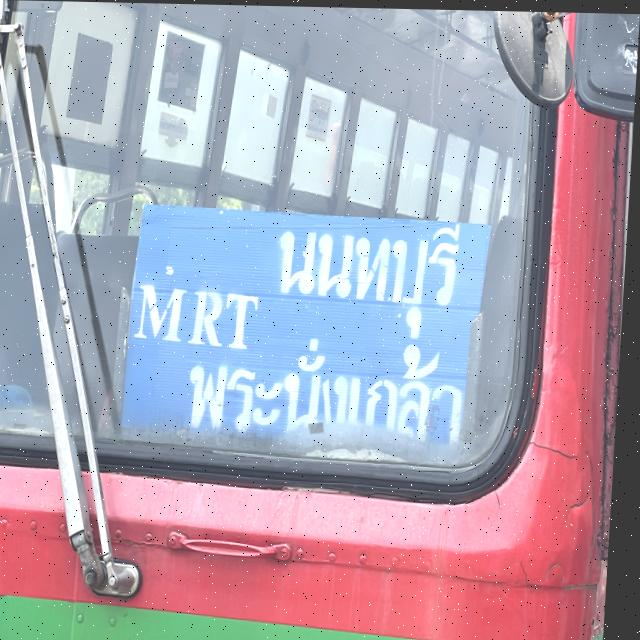BMTA-bus: (0, 0, 640, 640)
Destination-Sign-Normal: (131, 200, 504, 453)
